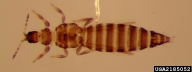Thrips: (14, 3, 174, 63)
